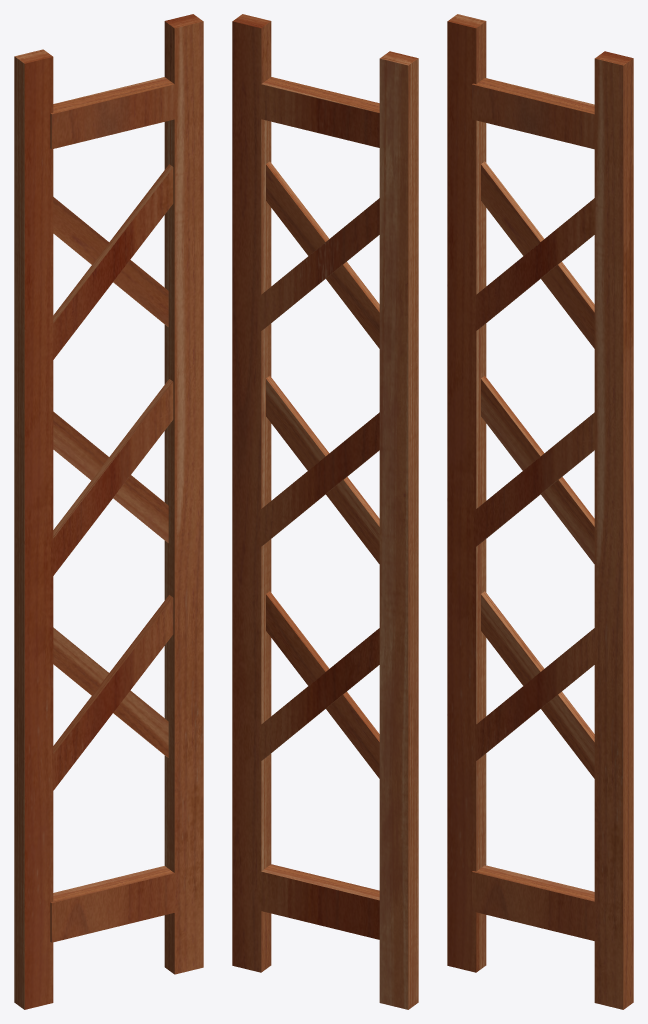
The model's file is Latice.fbx.
3 renders of one model, left to right at view 1: azimuth 30°, elevation 25°; view 2: azimuth 150°, elevation 25°; view 3: azimuth 330°, elevation 25°, orthographic.
Visible parts, largest first — view 1: Latrice; view 2: Latrice; view 3: Latrice.
Boxes of the visible parts, x1=… form: Latrice: x1=14, y1=14, x2=203, y2=1009; Latrice: x1=232, y1=14, x2=418, y2=1009; Latrice: x1=447, y1=14, x2=633, y2=1009.
Size of the model in its own units: 99.04 by 504 by 11.03.
1 material, 1 textured.
